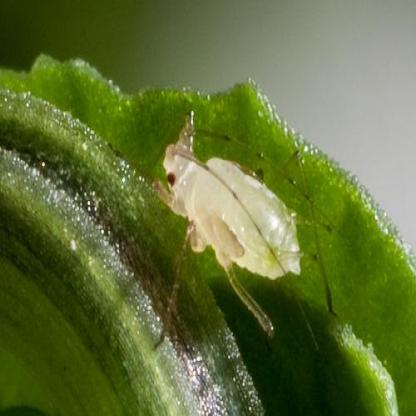aphid: (130, 100, 324, 358)
